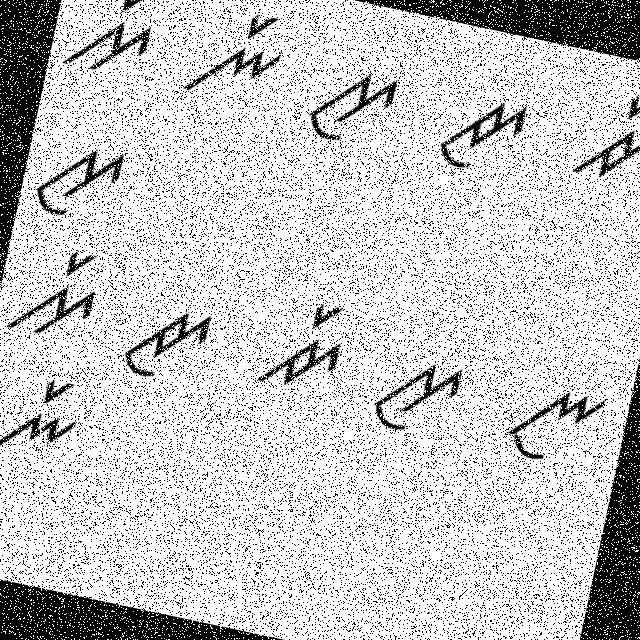jar: (245, 285, 357, 408), (570, 77, 639, 192)
jaw: (425, 81, 541, 187), (112, 286, 216, 395)
nyar: (180, 0, 297, 115), (0, 361, 92, 480)
nyaw: (492, 366, 610, 476)
sar: (4, 236, 108, 352), (59, 0, 170, 86)
saw: (300, 47, 410, 157), (364, 336, 470, 444), (23, 129, 134, 230)
